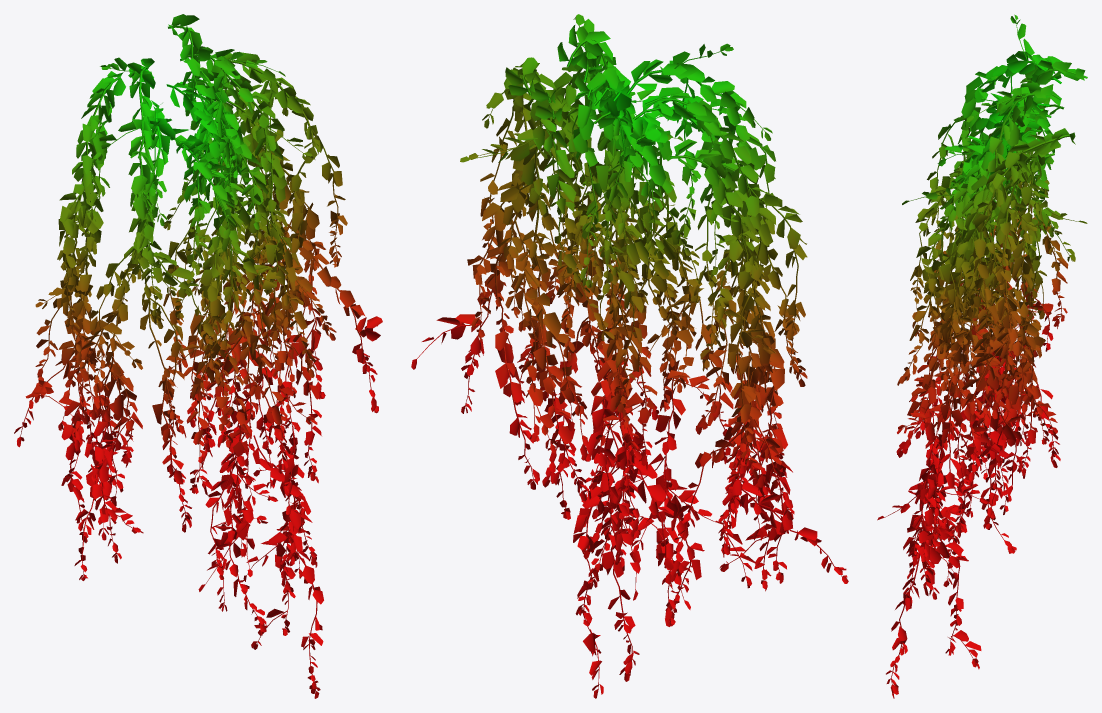
File: Var1_LOD3.fbx
3 renders of one model, left to right at view 1: azimuth 30°, elevation 25°; view 2: azimuth 150°, elevation 25°; view 3: azimuth 270°, elevation 25°, orthographic. The views are drawn at different scales.
Parts seen in each view (by area): view 1: _zl67_Var1_LOD3; view 2: _zl67_Var1_LOD3; view 3: _zl67_Var1_LOD3.
Boxes of the visible parts, bbox=[...] form: _zl67_Var1_LOD3: bbox=[14, 14, 382, 698]; _zl67_Var1_LOD3: bbox=[411, 14, 848, 698]; _zl67_Var1_LOD3: bbox=[877, 14, 1087, 698].
Size of the model in its own units: 144 by 255 by 78.82.
